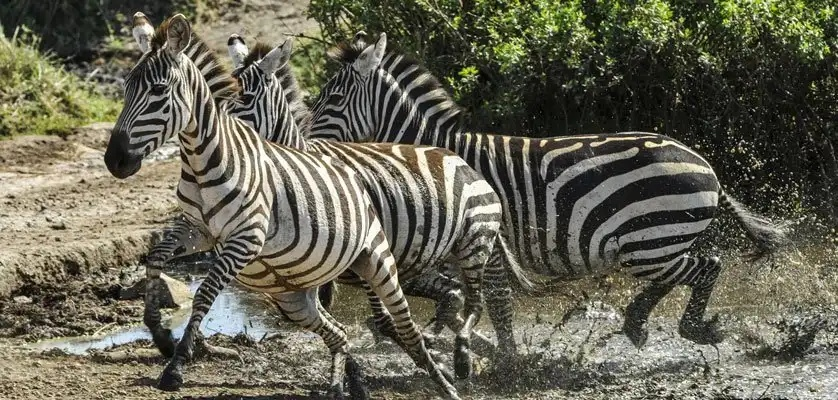zebra: (297, 25, 773, 349), (102, 9, 459, 399), (183, 37, 530, 389)
